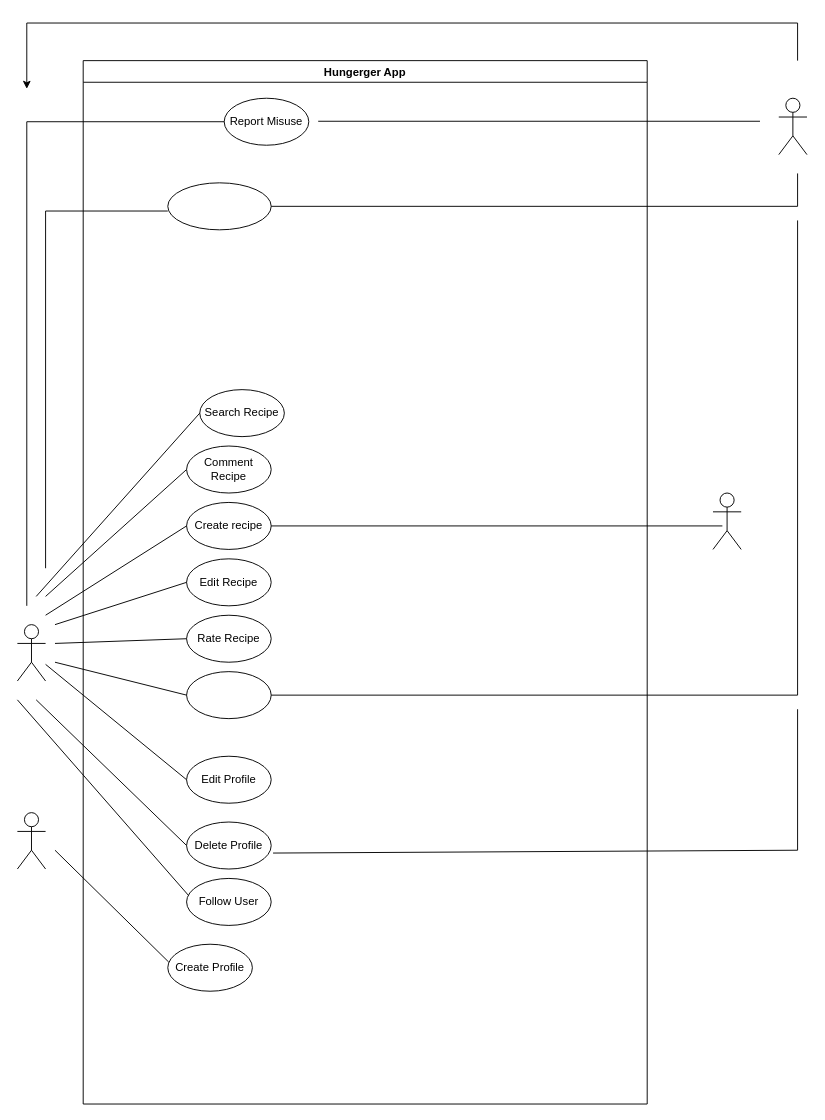
Some shapes in this 825 by 1120 pixel diagram are drawn without their labels. The centre of each missing label's shape, as x and y in pixels:
"Admin" goes at (x=792, y=126).
"Delete recipe" goes at (x=228, y=695).
"Marketplace" goes at (x=726, y=520).
"Update to Verified Account" goes at (x=219, y=206).
"User" goes at (x=31, y=652).
"Visitor" goes at (x=31, y=840).
